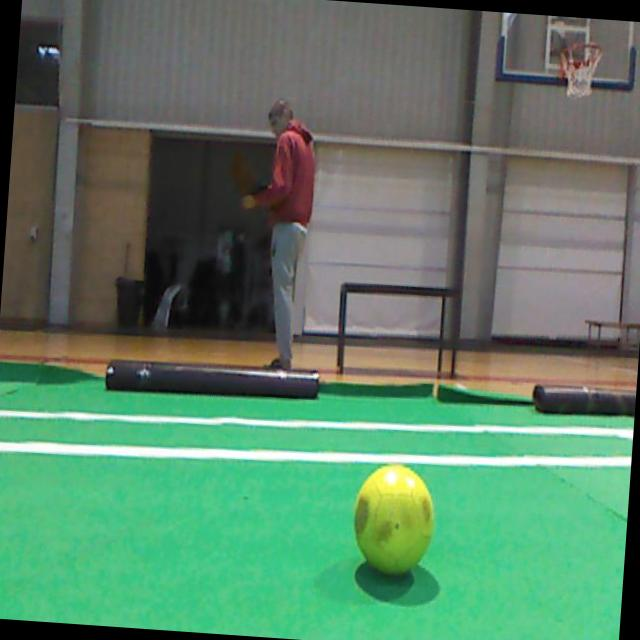ball: (354, 464, 433, 573)
